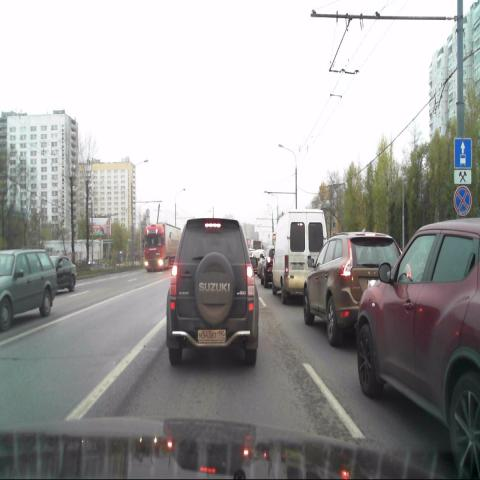5_14: (454, 137, 472, 168)
8_5_2: (453, 169, 472, 185)
